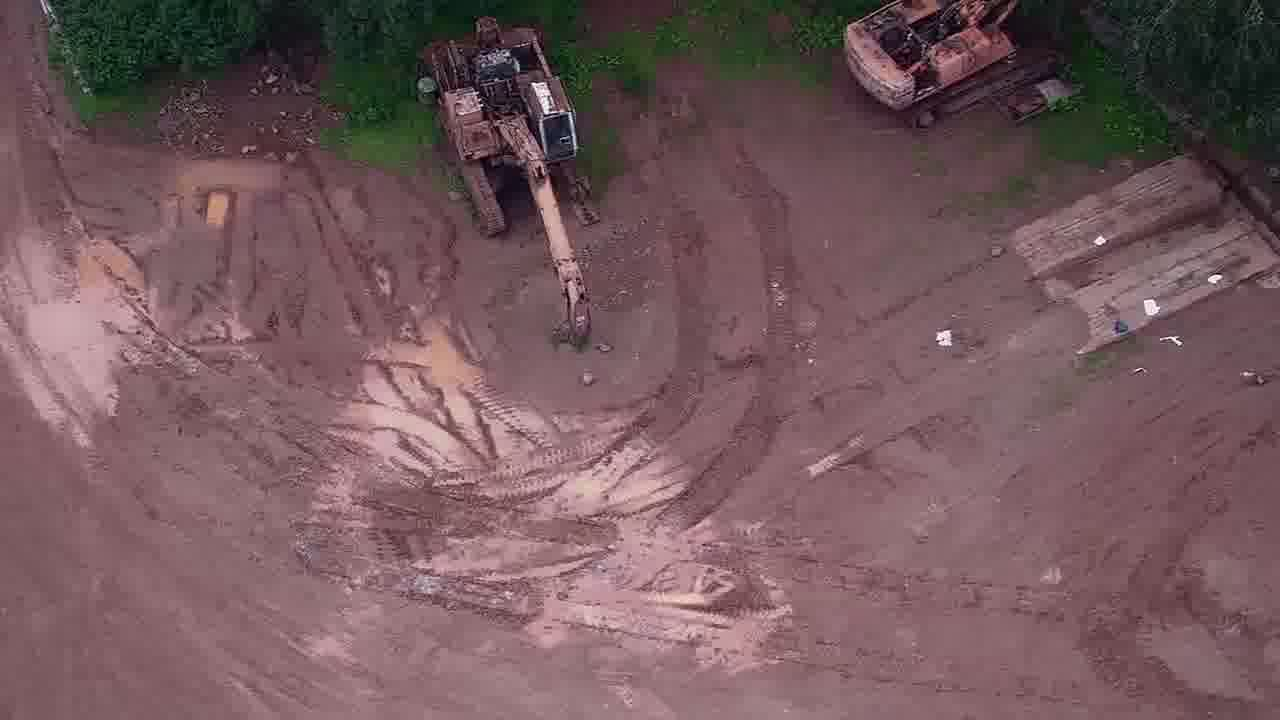HMV: (411, 15, 595, 343), (837, 1, 1060, 137)
